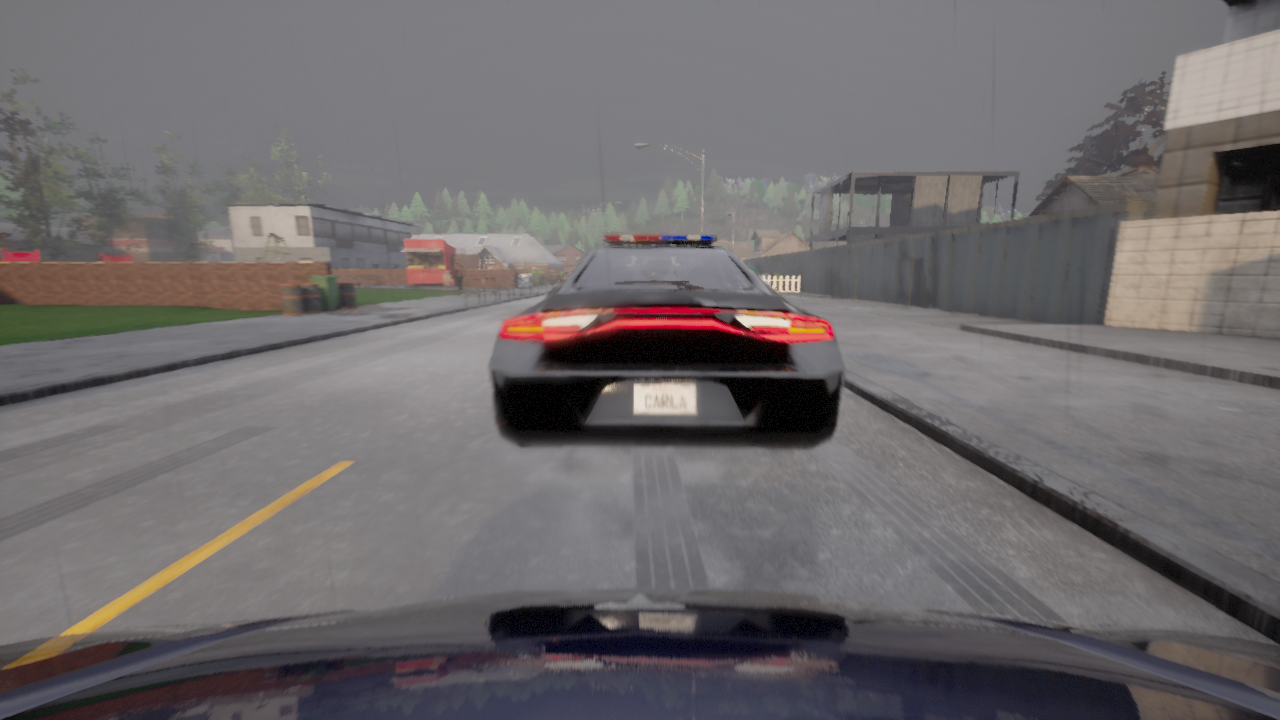cyclist: (0, 588, 1279, 719), (488, 235, 845, 448)
pedestrian: (452, 259, 466, 296)
